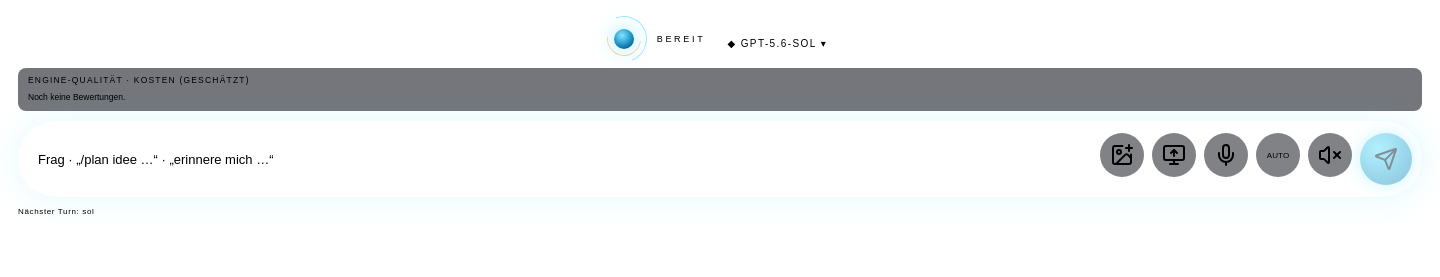
Test: JarvisChat (LIVE-Kontrakt /api/pa/*, Payload-Shapes aus test_pa_chat.py) › nicht unterstützter mobiler Browser: ehrlicher Hinweis, kein Bild-Picker, keine Erfolgssimulation
Click the button named "Bildschirm live teilen" at (1174, 155), box [1152,133,1196,177]
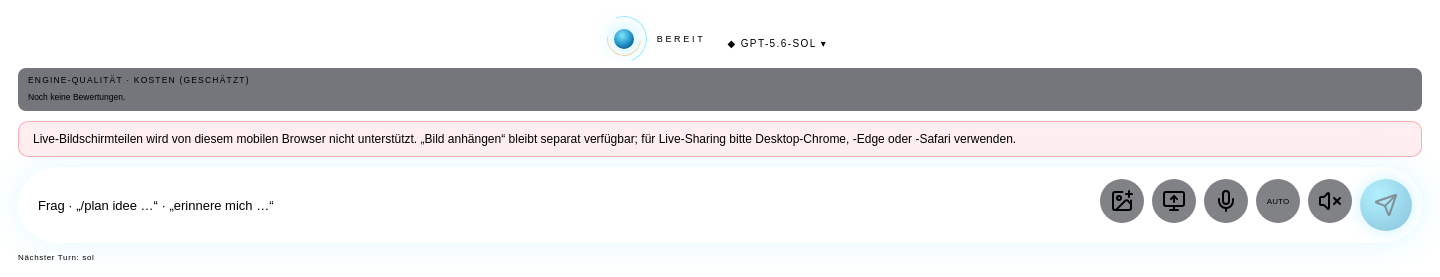
Check: the message shows "wird von diesem mobilen Browser nicht unterstützt", box [33,132,1016,146]
